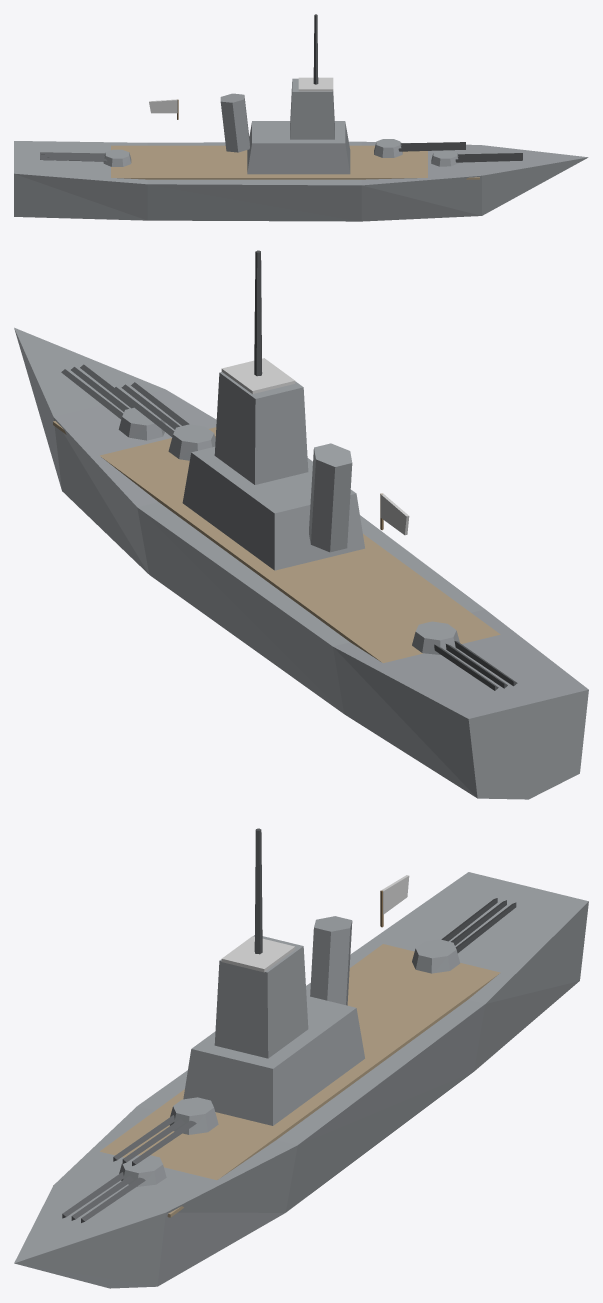
Rendered from battleship.glb.
3 renders of one model, top to bottom at view 1: azimuth 30°, elevation 25°; view 2: azimuth 150°, elevation 25°; view 3: azimuth 270°, elevation 25°, orthographic. The views are drawn at different scales.
Visible parts, largest first — view 1: LOD0; view 2: LOD0; view 3: LOD0.
Part boxes in pixels (x1=…): LOD0: x1=14, y1=14, x2=588, y2=221; LOD0: x1=14, y1=250, x2=588, y2=799; LOD0: x1=14, y1=828, x2=588, y2=1288.
Size of what is drawn, in the model's own units: 3 by 1.25 by 1.86.
